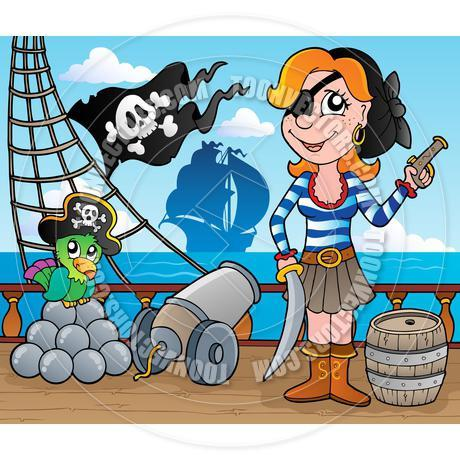bird: (21, 237, 115, 307)
boat: (150, 143, 269, 251)
person: (260, 49, 389, 407)
